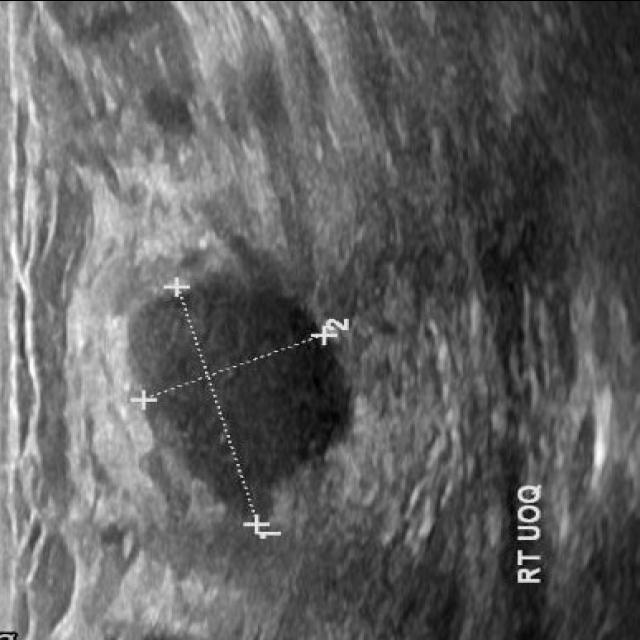Benign: (140, 292, 337, 483)
